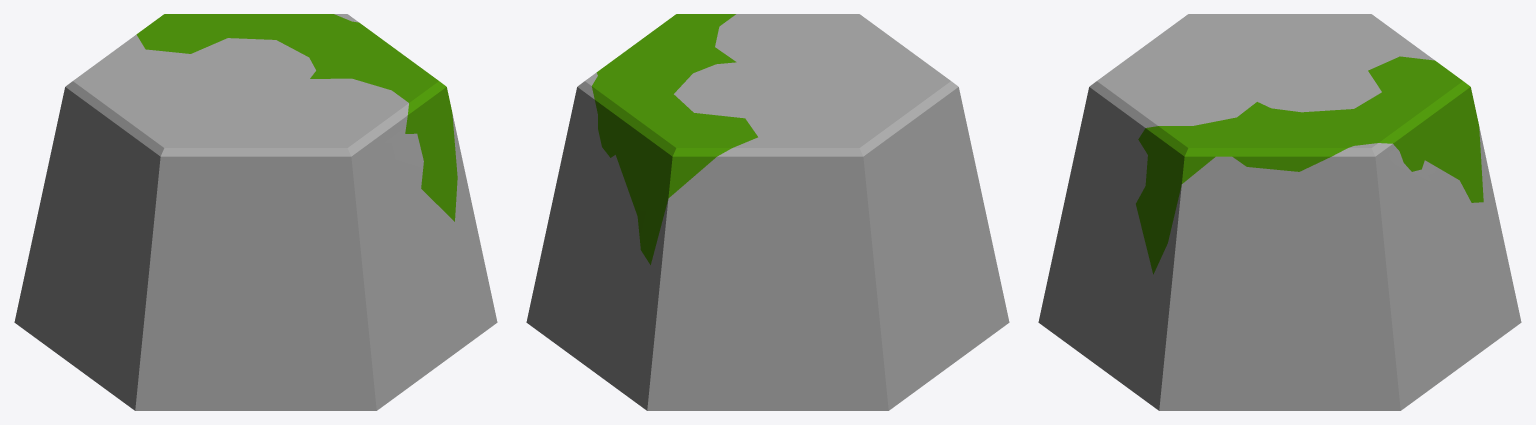
The model's file is RPG_Tiles_Hex_Rock_Moss_Large_01.FBX.
The picture shows the model from 3 angles, left to right: view 1: azimuth 30°, elevation 25°; view 2: azimuth 150°, elevation 25°; view 3: azimuth 270°, elevation 25°; orthographic projection.
Visible parts, largest first — view 1: RPG_Tiles_Hex_Rock_Moss_Large_01; view 2: RPG_Tiles_Hex_Rock_Moss_Large_01; view 3: RPG_Tiles_Hex_Rock_Moss_Large_01.
Boxes of the visible parts, x1,y1,x2,y2 form: RPG_Tiles_Hex_Rock_Moss_Large_01: [14, 14, 497, 410]; RPG_Tiles_Hex_Rock_Moss_Large_01: [526, 14, 1009, 410]; RPG_Tiles_Hex_Rock_Moss_Large_01: [1038, 14, 1521, 410].
Bounding box in the file's own units: 2346 × 1495 × 2709.
